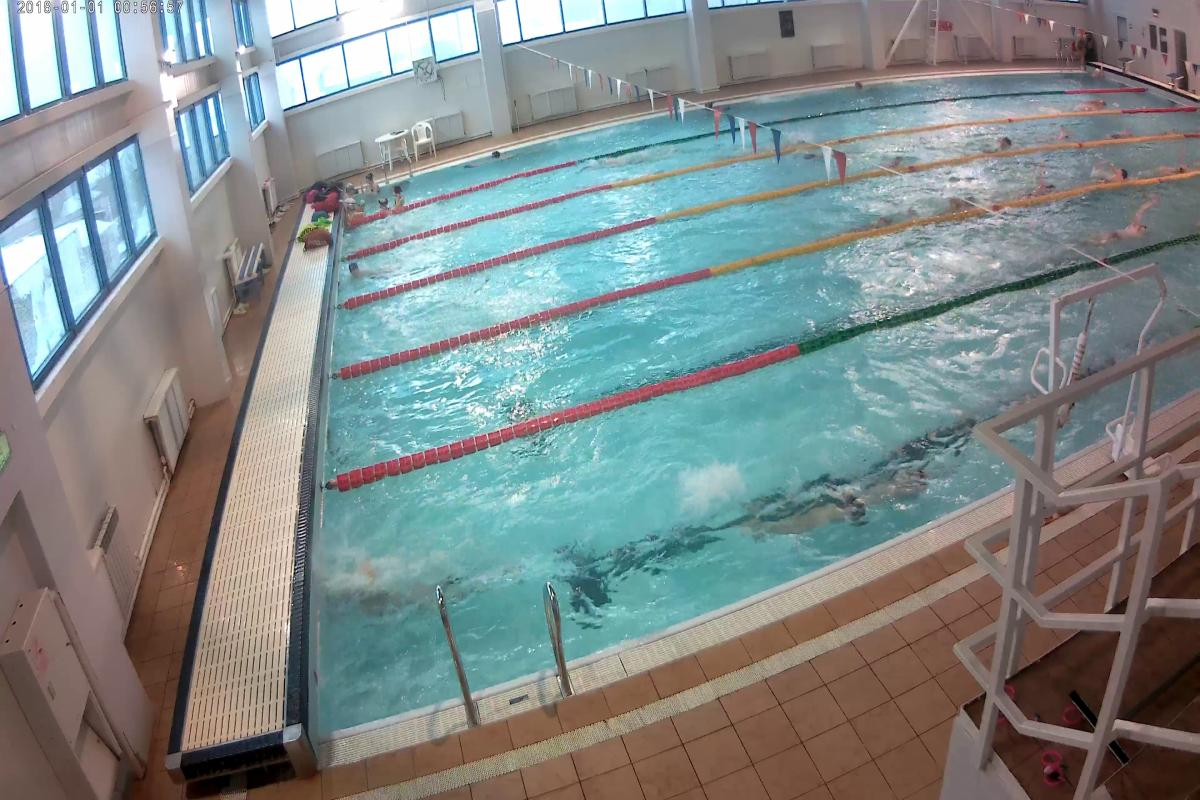swimmer: (1114, 207, 1161, 239), (1030, 172, 1065, 196), (346, 257, 374, 284), (1096, 157, 1130, 179), (984, 134, 1019, 149)
